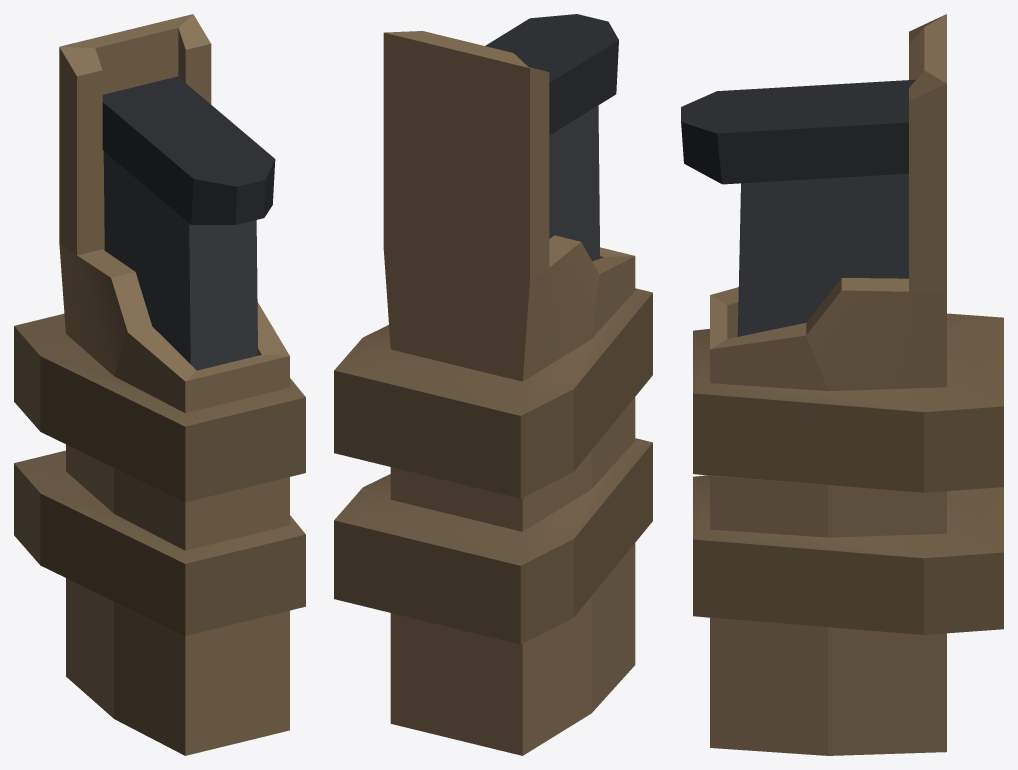
File: SM_Chr_Attach_Pouch_Mag_Pistol_01.fbx
The picture shows the model from 3 angles, left to right: view 1: azimuth 30°, elevation 25°; view 2: azimuth 150°, elevation 25°; view 3: azimuth 270°, elevation 25°; orthographic projection. The views are drawn at different scales.
Parts seen in each view (by area): view 1: SM_Chr_Attach_Pouch_Mag_Pistol_01; view 2: SM_Chr_Attach_Pouch_Mag_Pistol_01; view 3: SM_Chr_Attach_Pouch_Mag_Pistol_01.
Boxes of the visible parts, left/top/right/bottom form: SM_Chr_Attach_Pouch_Mag_Pistol_01: left=14, top=14, right=305, bottom=755; SM_Chr_Attach_Pouch_Mag_Pistol_01: left=334, top=14, right=652, bottom=755; SM_Chr_Attach_Pouch_Mag_Pistol_01: left=681, top=14, right=1003, bottom=755.
Size of the model in its own units: 5.8 by 18.09 by 7.88.
